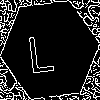L: (25, 25, 56, 74)
